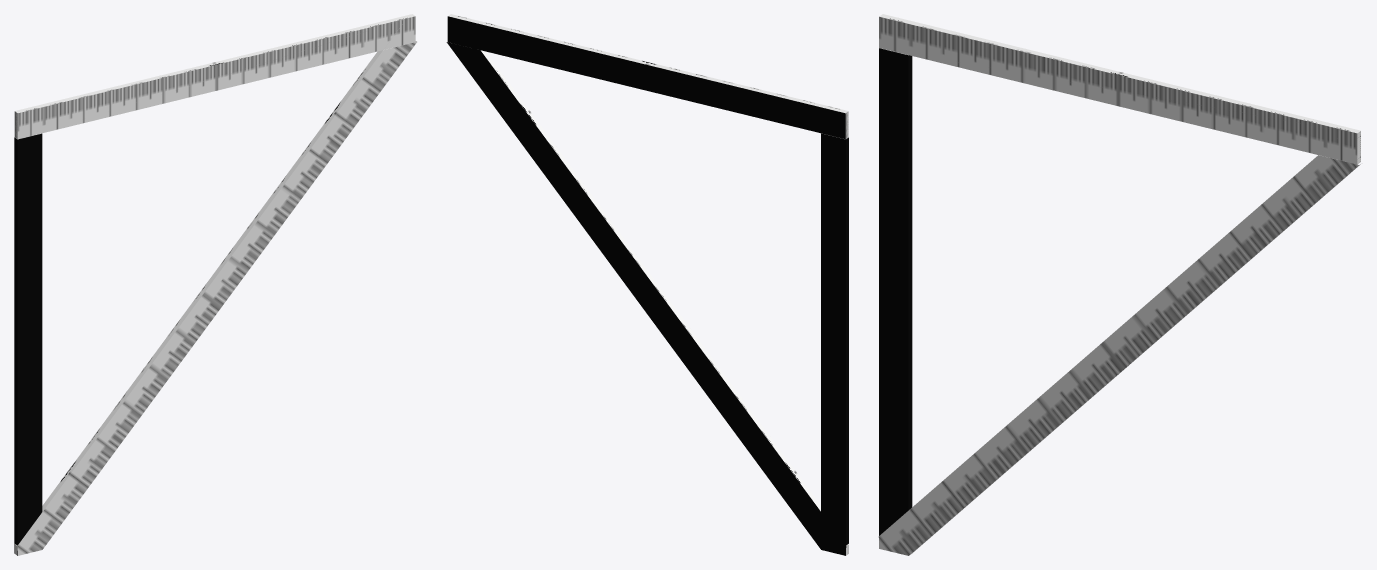
Rendered from Penggris Segitiga.fbx.
3 views of the same model, side by side, from view 1: azimuth 30°, elevation 25°; view 2: azimuth 150°, elevation 25°; view 3: azimuth 330°, elevation 25° (orthographic). The views are drawn at different scales.
Parts seen in each view (by area): view 1: Ruler_linear_50cm_001; view 2: Ruler_linear_50cm_001; view 3: Ruler_linear_50cm_001.
Part boxes in pixels (x1=…): Ruler_linear_50cm_001: x1=14, y1=14, x2=416, y2=555; Ruler_linear_50cm_001: x1=446, y1=14, x2=848, y2=555; Ruler_linear_50cm_001: x1=878, y1=14, x2=1360, y2=555.
Bounding box in the file's own units: 943 × 997 × 13.03.
2 materials, 1 textured.
